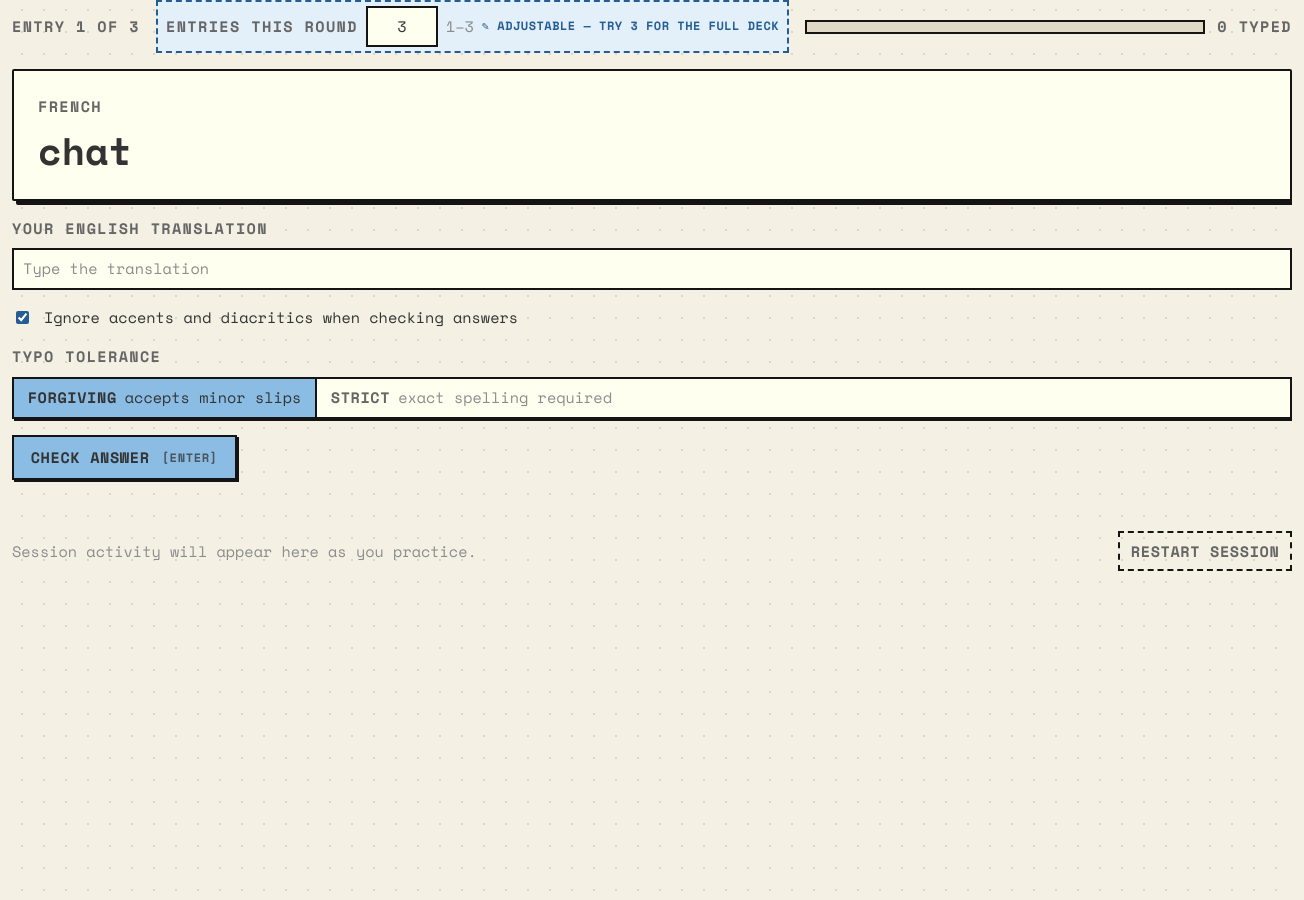
Test: TypingMode › rejects empty input before scoring
Click the button "Check answer [Enter]" at {"x": 124, "y": 458}, box x1=12 y1=435 x2=237 y2=480
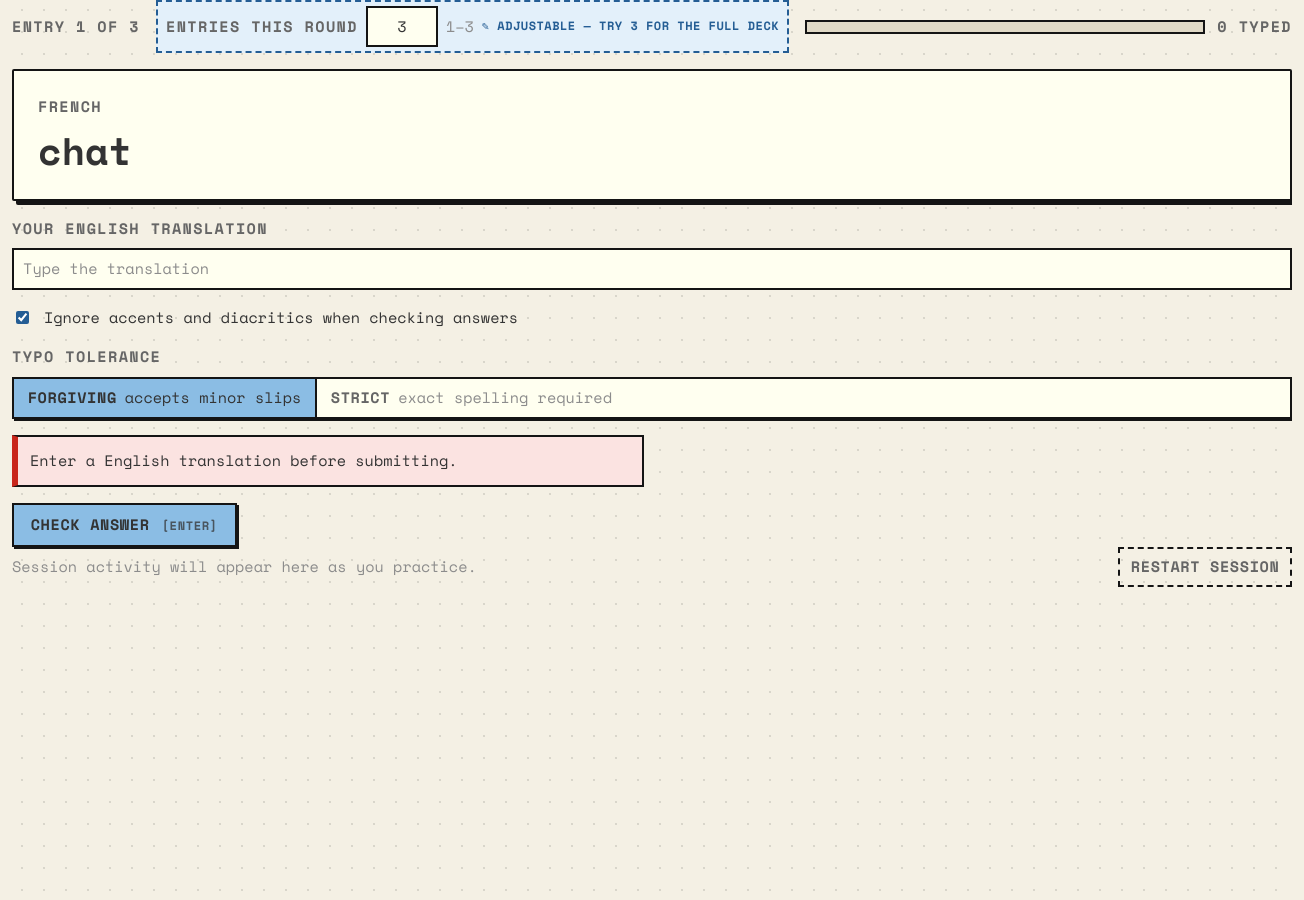
Expected: the element named "Session statistics" reads "Session activity will appear here as you practice. Restart session", x1=12 y1=555 x2=477 y2=577
Expected: the message shows "Enter a English translation", x1=30 y1=449 x2=458 y2=471
